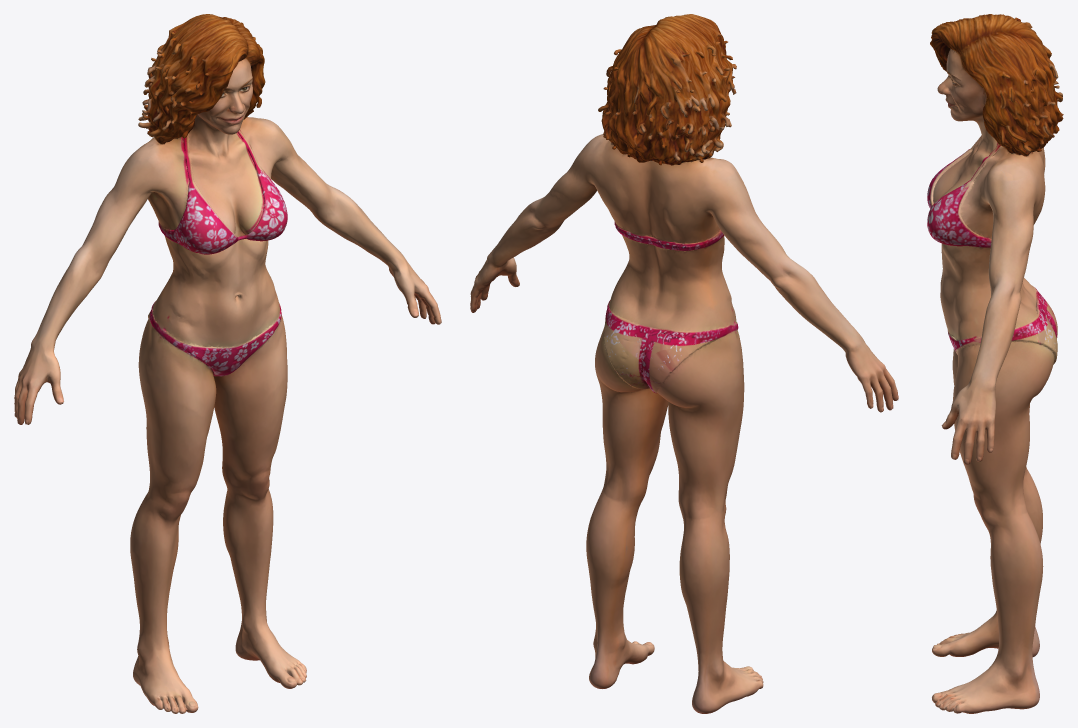
The model's file is kate-v385-rig-source.glb.
The picture shows the model from 3 angles, left to right: view 1: azimuth 30°, elevation 25°; view 2: azimuth 150°, elevation 25°; view 3: azimuth 270°, elevation 25°; orthographic projection.
Visible parts, largest first — view 1: tripo_node_cee52ea4-179f-4c8e-a2c6-31c04037deaf; view 2: tripo_node_cee52ea4-179f-4c8e-a2c6-31c04037deaf; view 3: tripo_node_cee52ea4-179f-4c8e-a2c6-31c04037deaf.
Part boxes in pixels (left/top/right/bottom): tripo_node_cee52ea4-179f-4c8e-a2c6-31c04037deaf: left=14, top=14, right=441, bottom=713; tripo_node_cee52ea4-179f-4c8e-a2c6-31c04037deaf: left=470, top=14, right=898, bottom=713; tripo_node_cee52ea4-179f-4c8e-a2c6-31c04037deaf: left=927, top=14, right=1063, bottom=713.
Size of the model in its own units: 0.6451 by 0.9796 by 0.1827.
Materials: 1 (1 with a texture image).
